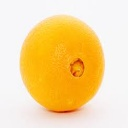orange: (17, 12, 106, 115)
